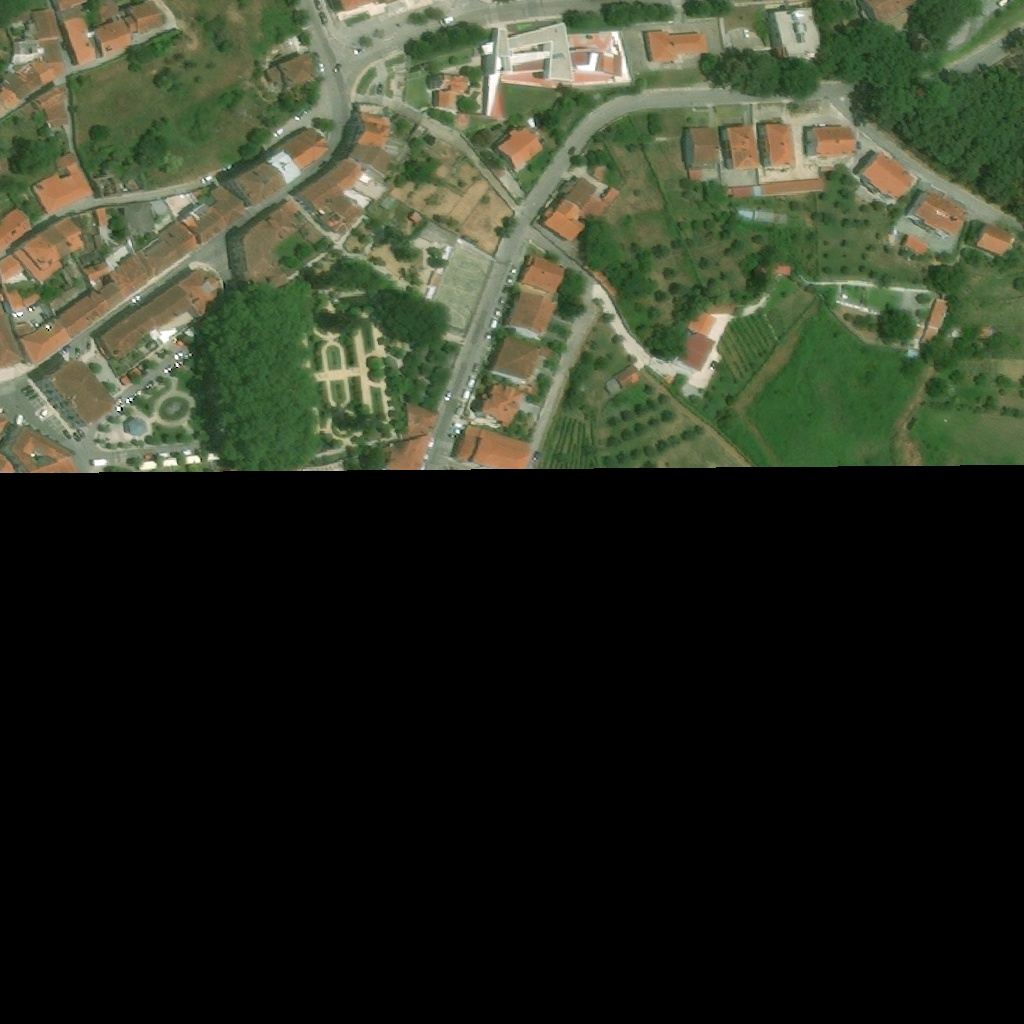0 no-damage: (90, 261, 221, 367), (477, 19, 602, 117), (224, 197, 325, 293), (0, 210, 97, 289), (109, 220, 199, 300), (32, 355, 122, 431), (292, 156, 368, 245), (538, 176, 619, 245), (0, 37, 66, 115), (176, 184, 246, 247), (31, 150, 95, 217), (56, 281, 128, 340), (379, 400, 440, 461), (903, 186, 969, 242), (222, 156, 289, 210), (853, 150, 918, 205), (0, 421, 78, 464), (446, 423, 532, 460), (487, 334, 543, 386), (472, 379, 525, 432), (503, 290, 560, 339), (491, 122, 543, 174), (19, 318, 72, 367), (774, 5, 821, 58), (643, 28, 710, 65), (280, 125, 330, 174), (514, 252, 568, 296), (262, 51, 320, 91), (58, 12, 99, 66), (345, 139, 395, 180), (4, 19, 43, 71), (756, 123, 797, 171), (718, 125, 759, 172), (0, 300, 26, 372), (804, 125, 859, 159), (918, 297, 950, 352), (29, 83, 68, 127), (92, 16, 134, 56), (262, 144, 303, 184), (675, 331, 715, 372), (0, 207, 32, 254), (682, 128, 718, 169), (354, 110, 391, 147), (123, 0, 165, 32), (974, 223, 1012, 256), (121, 199, 154, 237), (2, 286, 43, 316), (30, 9, 60, 39), (685, 307, 716, 336), (611, 363, 642, 390), (899, 233, 931, 258), (82, 259, 111, 284), (344, 187, 371, 210), (757, 259, 791, 277), (122, 415, 148, 437), (705, 297, 736, 315), (441, 74, 471, 91), (148, 197, 169, 219), (356, 102, 390, 114), (123, 13, 139, 38), (94, 206, 113, 227), (590, 160, 608, 182), (165, 194, 185, 213), (602, 376, 620, 397), (734, 206, 755, 221), (754, 208, 776, 222), (433, 90, 451, 107), (81, 251, 102, 265), (406, 208, 424, 224), (59, 270, 74, 287), (732, 186, 753, 197), (189, 187, 209, 198), (94, 234, 106, 251), (975, 327, 995, 337), (15, 323, 30, 335), (357, 173, 371, 185), (689, 169, 703, 178), (753, 186, 763, 197), (907, 349, 919, 358), (908, 328, 919, 337)
4 un-classified: (92, 165, 140, 197), (947, 0, 1006, 21), (865, 0, 918, 23), (338, 0, 389, 10), (49, 0, 87, 12), (0, 409, 12, 446), (470, 129, 493, 148)
